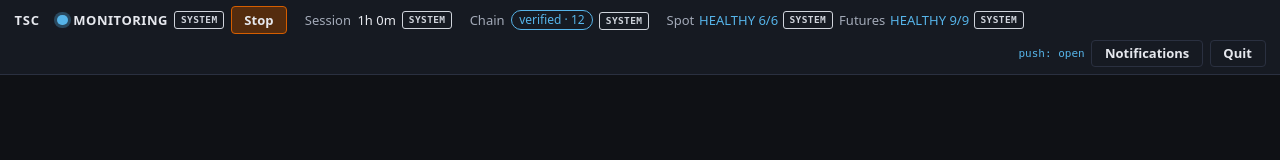
Test case: StatusBar › says the session closed cleanly only when the backend reports it
This screenshot has width=1280, height=160.
Click the button "Quit" at (1238, 54), box [1210, 40, 1266, 67]
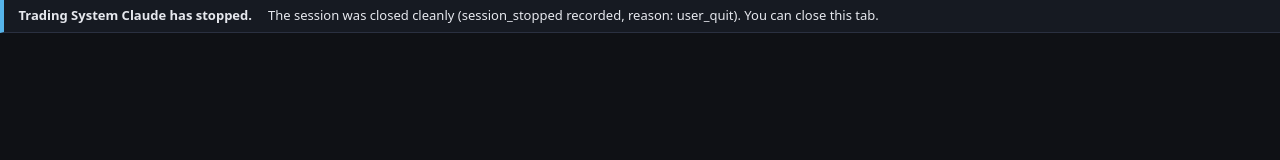
Expected: the text with test id "ended-body" shows "closed cleanly", [268, 6, 879, 24]
